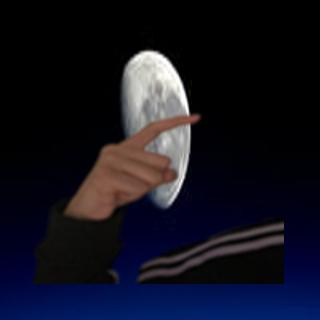WHY: (62, 111, 204, 220)
